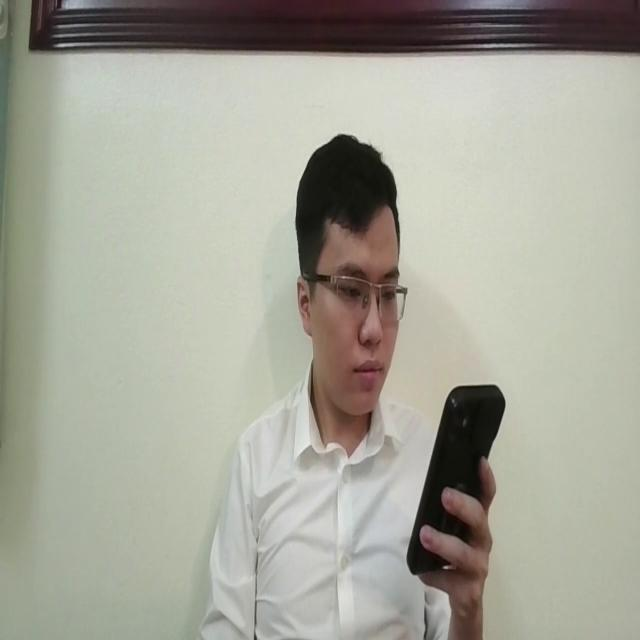phone: (406, 382, 507, 588)
student: (198, 130, 493, 640)
